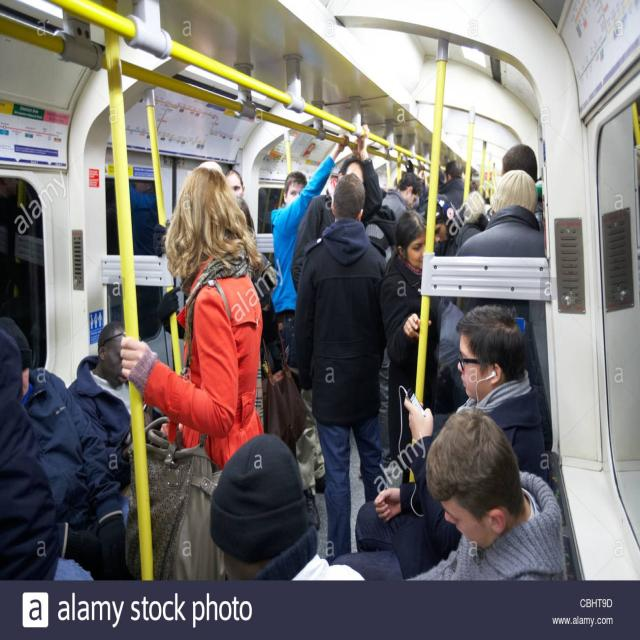body: (354, 306, 550, 582), (118, 164, 266, 468), (292, 168, 400, 566), (0, 319, 131, 580), (404, 409, 568, 582), (208, 436, 367, 580), (268, 131, 350, 393), (379, 206, 442, 487), (0, 364, 59, 634), (293, 124, 385, 294), (454, 168, 547, 317), (66, 320, 132, 487), (387, 145, 541, 211), (423, 192, 481, 257), (430, 297, 462, 399), (223, 168, 249, 214)
